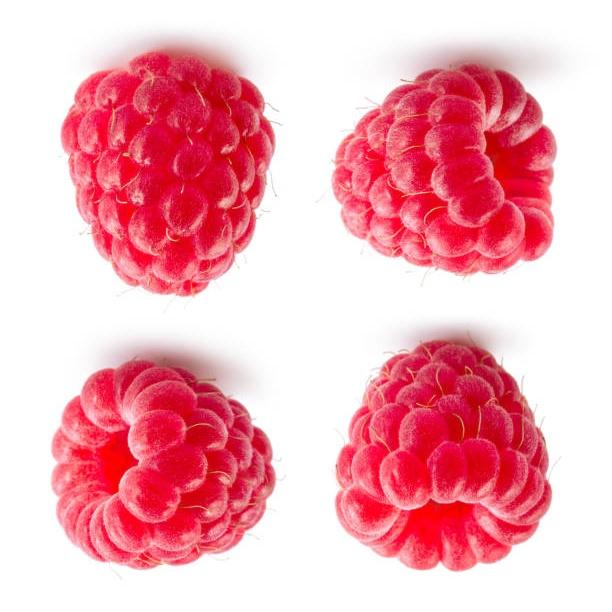raspberry: (60, 50, 277, 297), (334, 338, 552, 572), (330, 61, 557, 276), (50, 357, 276, 570)
